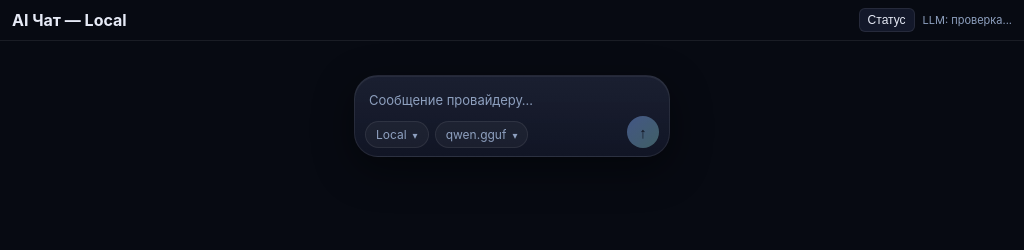
Scenario: ai_chat_local_json_response_parsed › parses legacy OpenAI-shape JSON to text
Check: the dropdown named "Провайдер" is shown, box [365,121,429,148]
In the text box with placeholder "Сообщение провайдеру…": (512, 98) [365,86,659,110], type "hello"
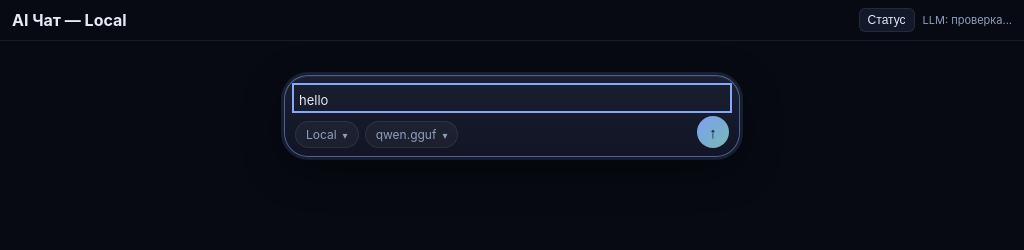
Click the button named "Отправить": (713, 132) [697,116,729,148]
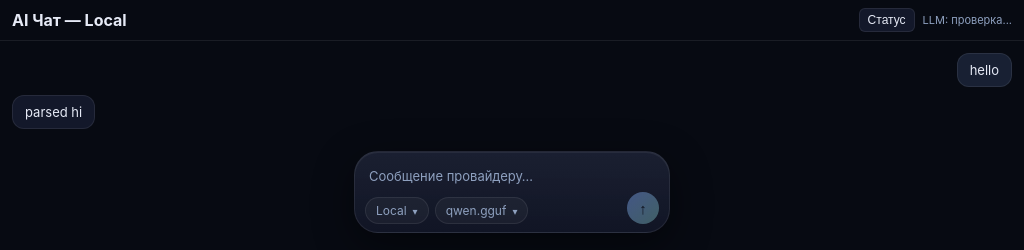
Check: the text "parsed hi" is shown, box [25,104,82,120]
